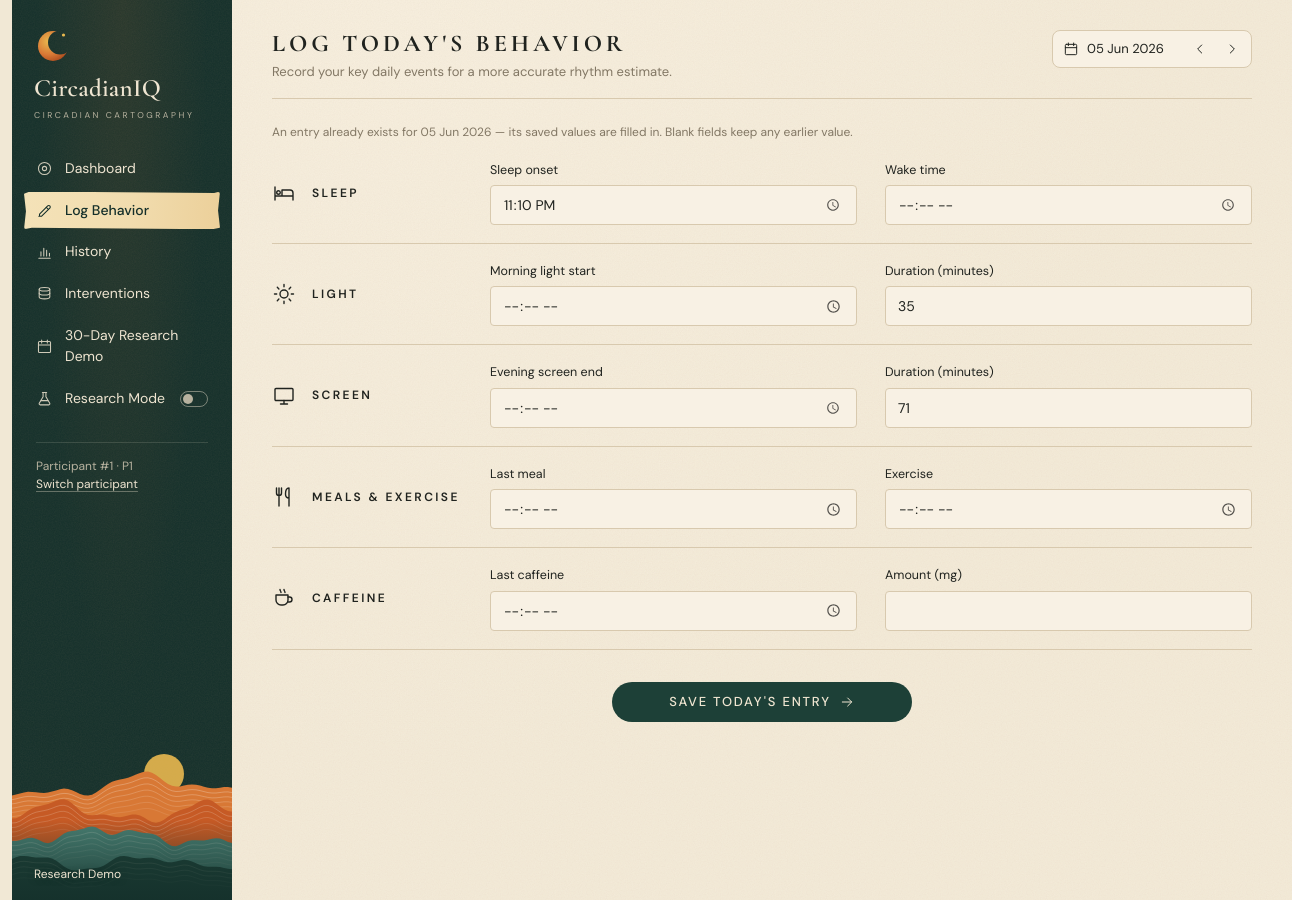
Test: Request payloads (regression: actions use the latest form values) › shows stored durations rounded and never overwrites them when left unchanged
Expected: the 1st number field labelled "Duration (minutes)" holds "35", [885,286,1252,326]
Replace the text in the 2nd number field labelled "Duration (minutes)" with "90" at {"x": 1068, "y": 408}, box [885,388,1252,428]
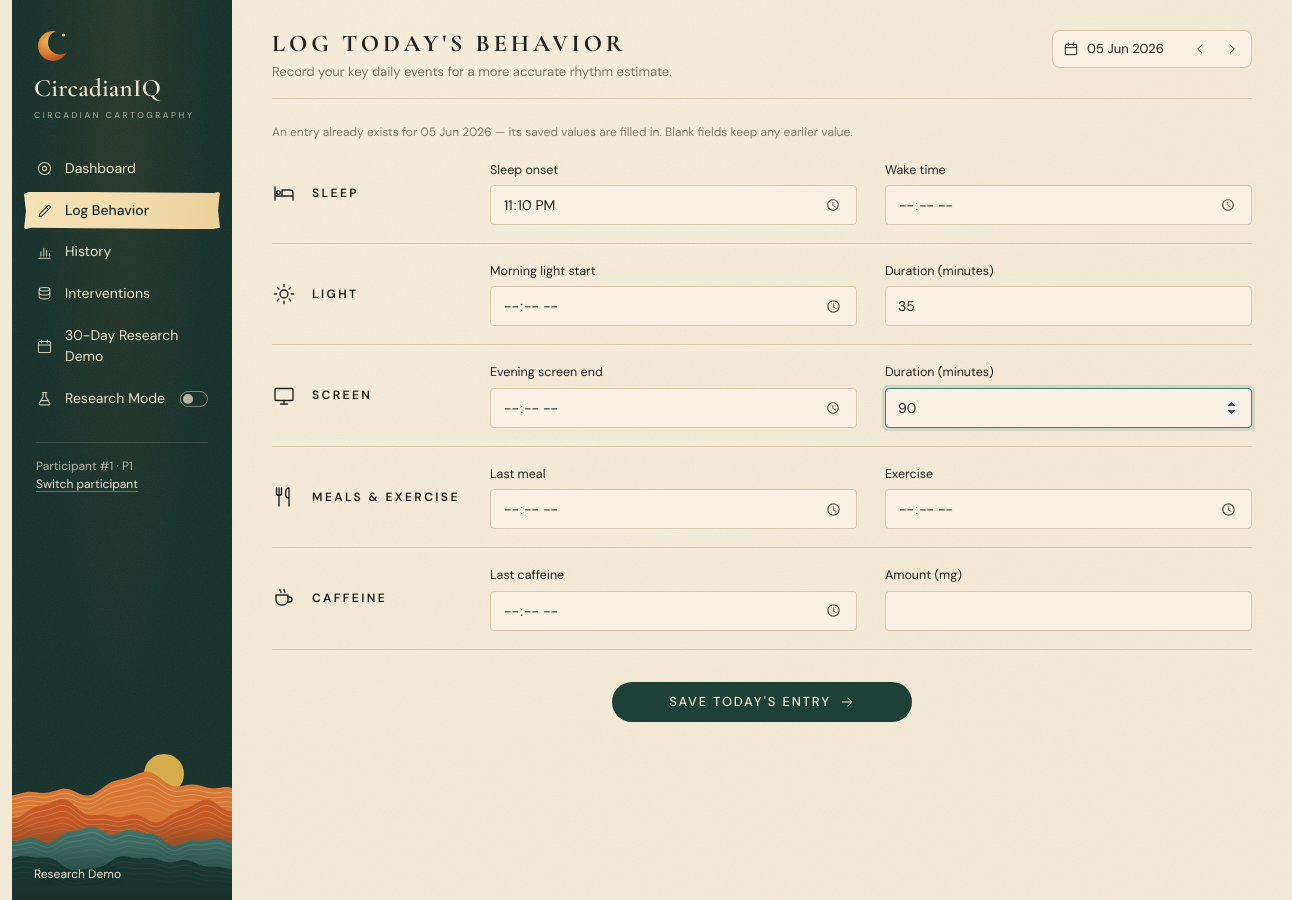
Click the button "Save today's entry" at {"x": 762, "y": 702}, box [612,682,912,722]
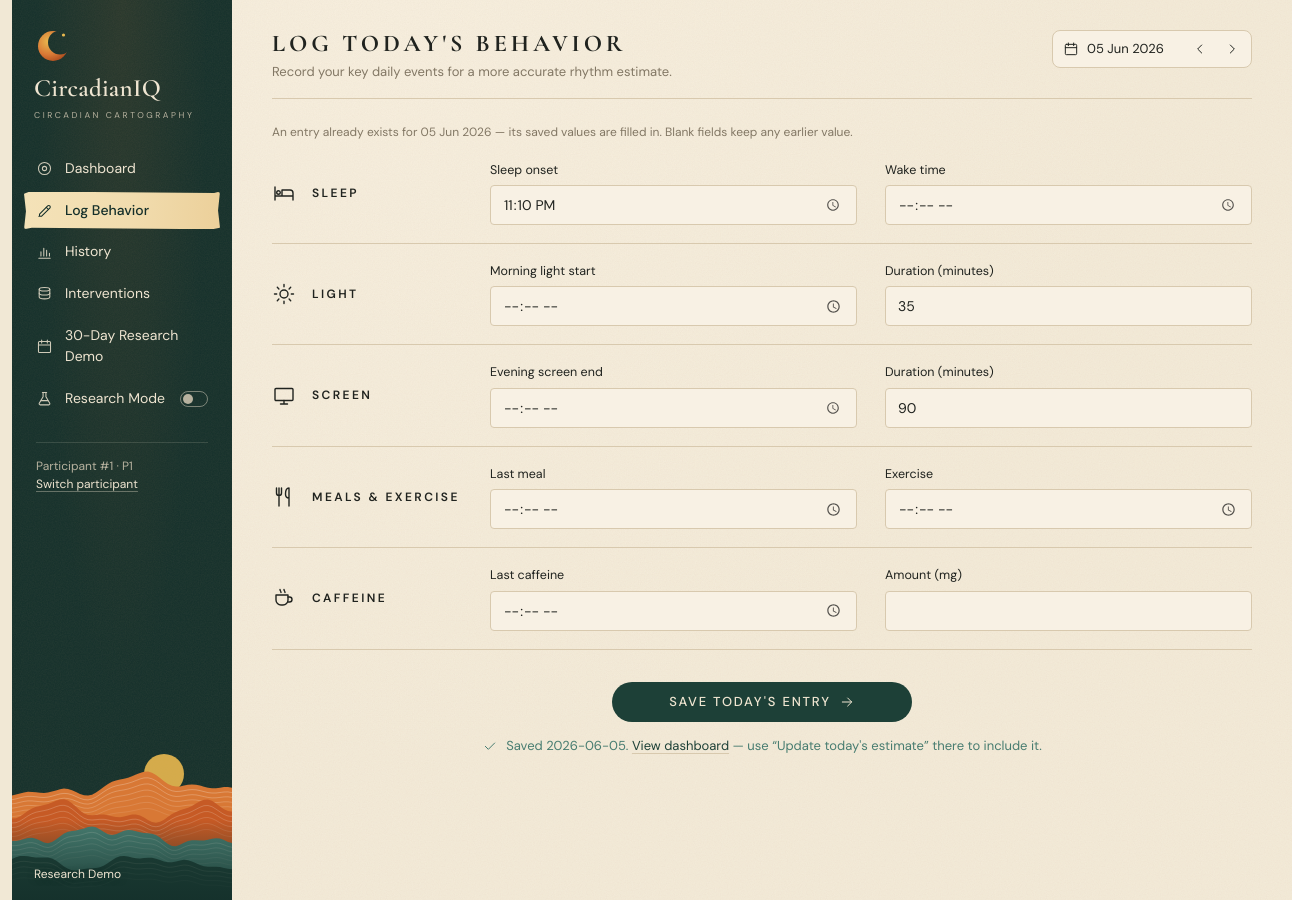
Result: the text "Saved 2026-06-05" is shown at [506,736,1042,756]
